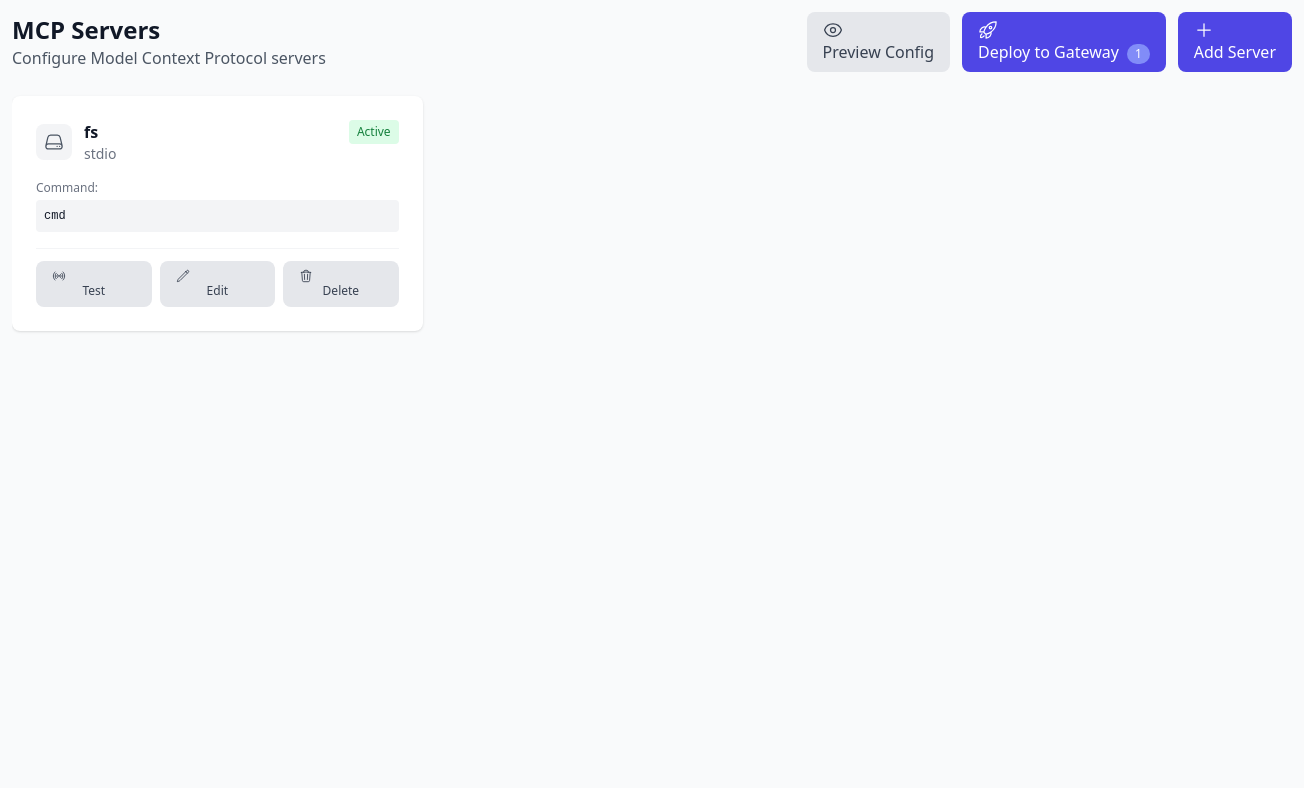
it: MCPServers › closes form on cancel
Click the button "Add Server". click: coordinates (1235, 42)
box: [1178,12,1292,72]
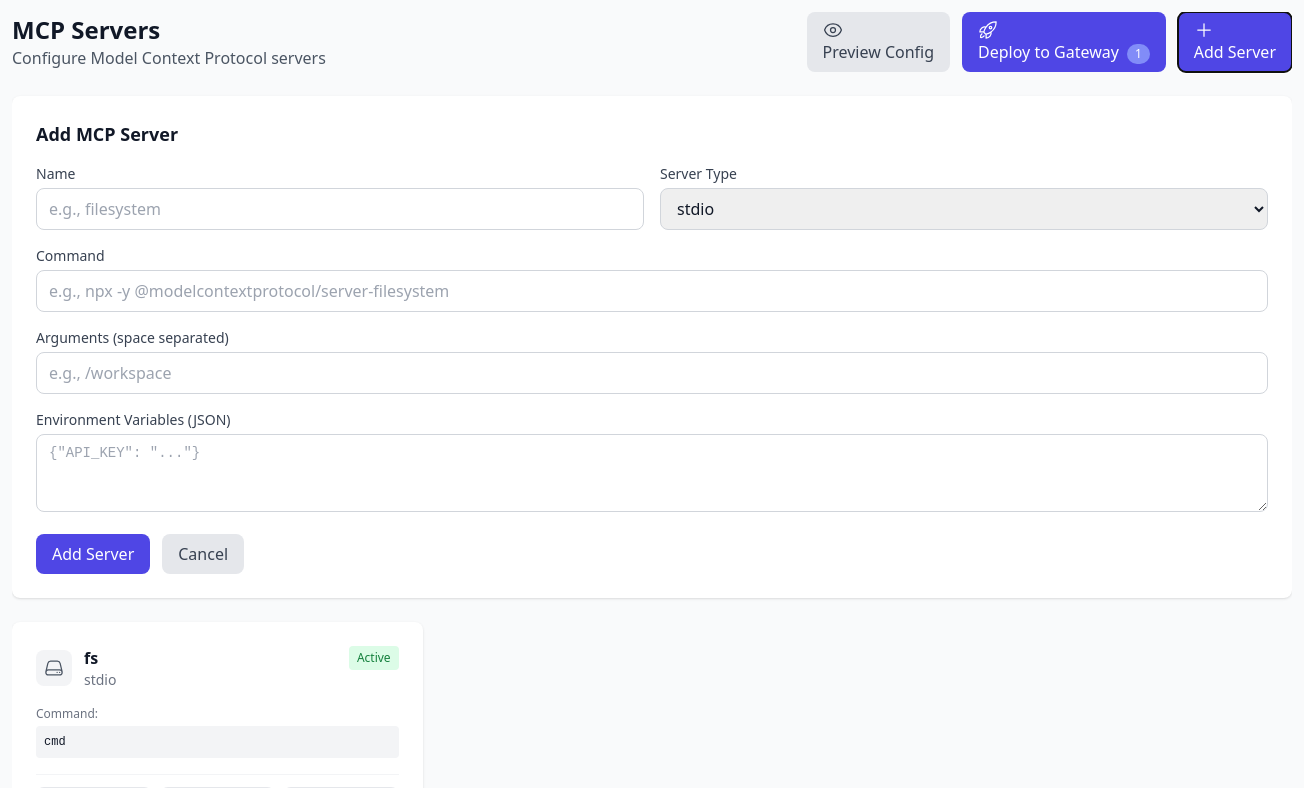
Check: the heading "Add MCP Server" is shown, box [36,122,178,146]
Click the button "Cancel". click: coordinates (203, 554)
box: [162,534,244,574]
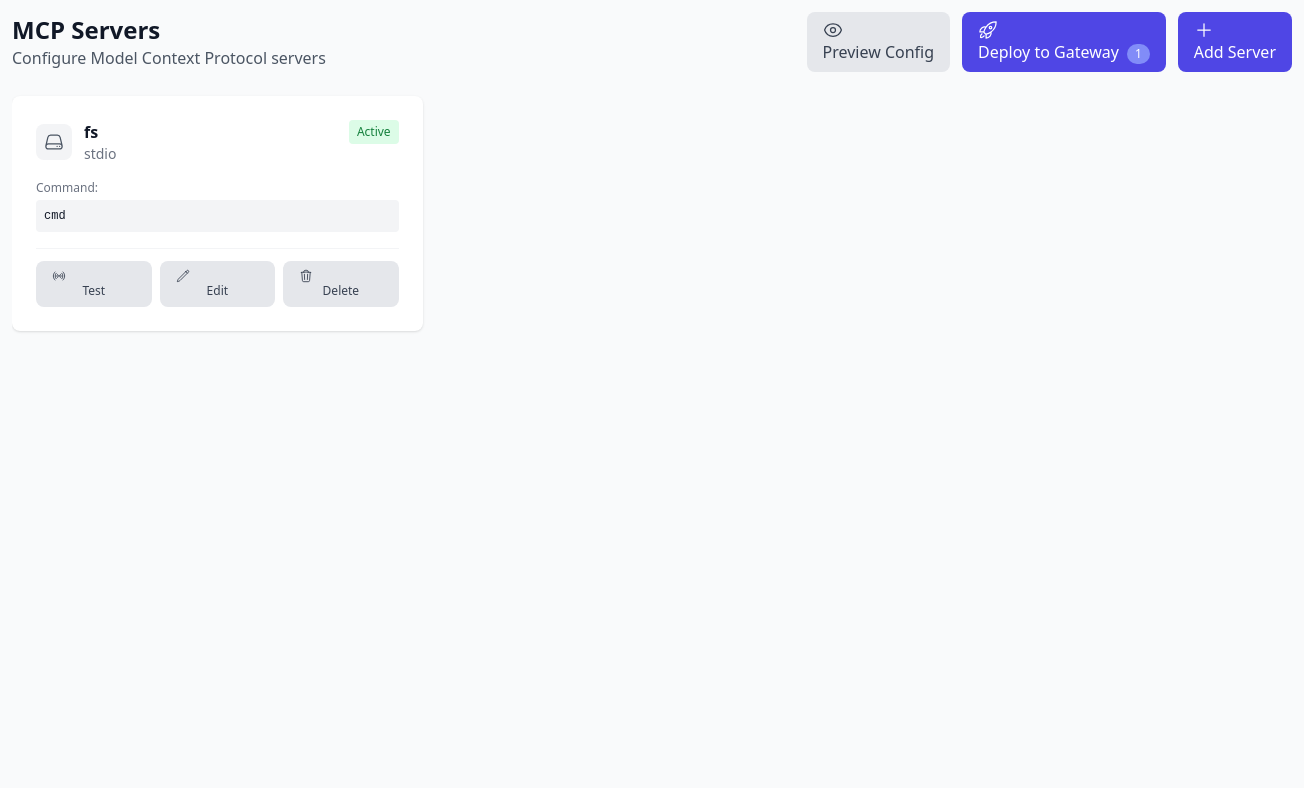
Check: the heading "Add MCP Server" is gone
